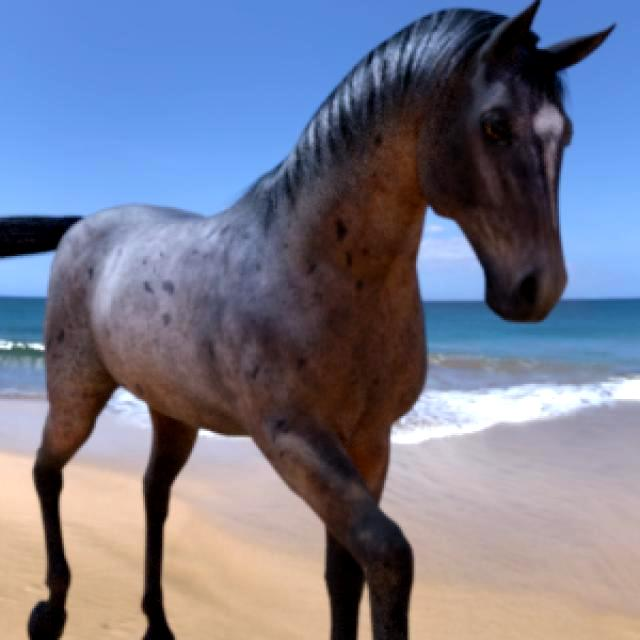horse: (0, 0, 614, 640)
